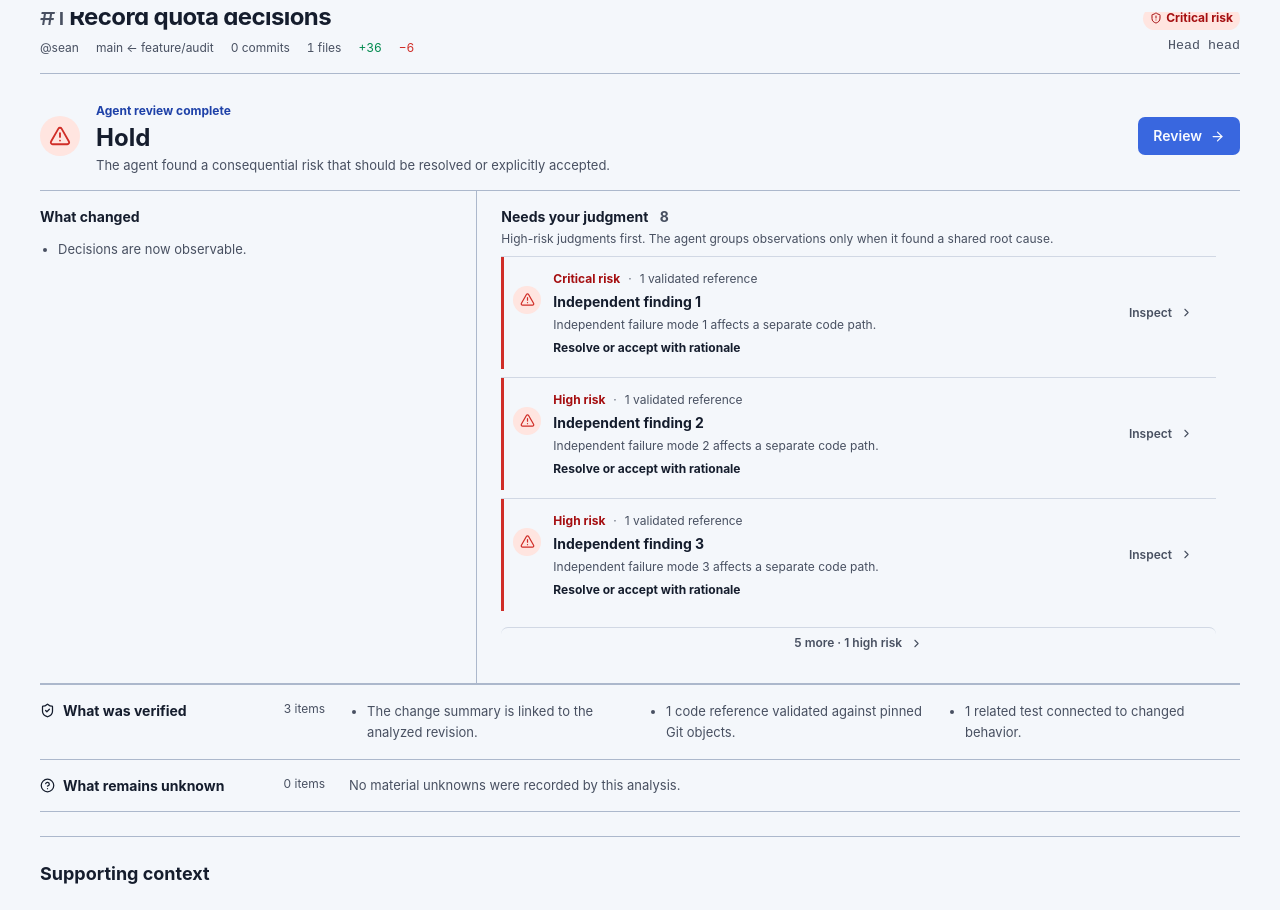
Test: Review brief and chapter reader › keeps consequential findings visible and progressively reveals a long judgment list
The image size is (1280, 910).
(page scrolled)
Expected: the heading "Needs your judgment 8" is shown, [501,208,669,225]
Expected: the text "Independent finding 1" is shown, [553,293,701,310]
Click the button with aria-label "Show 5 more · 1 high risk": (859, 643) [501,627,1216,659]
(page scrolled)
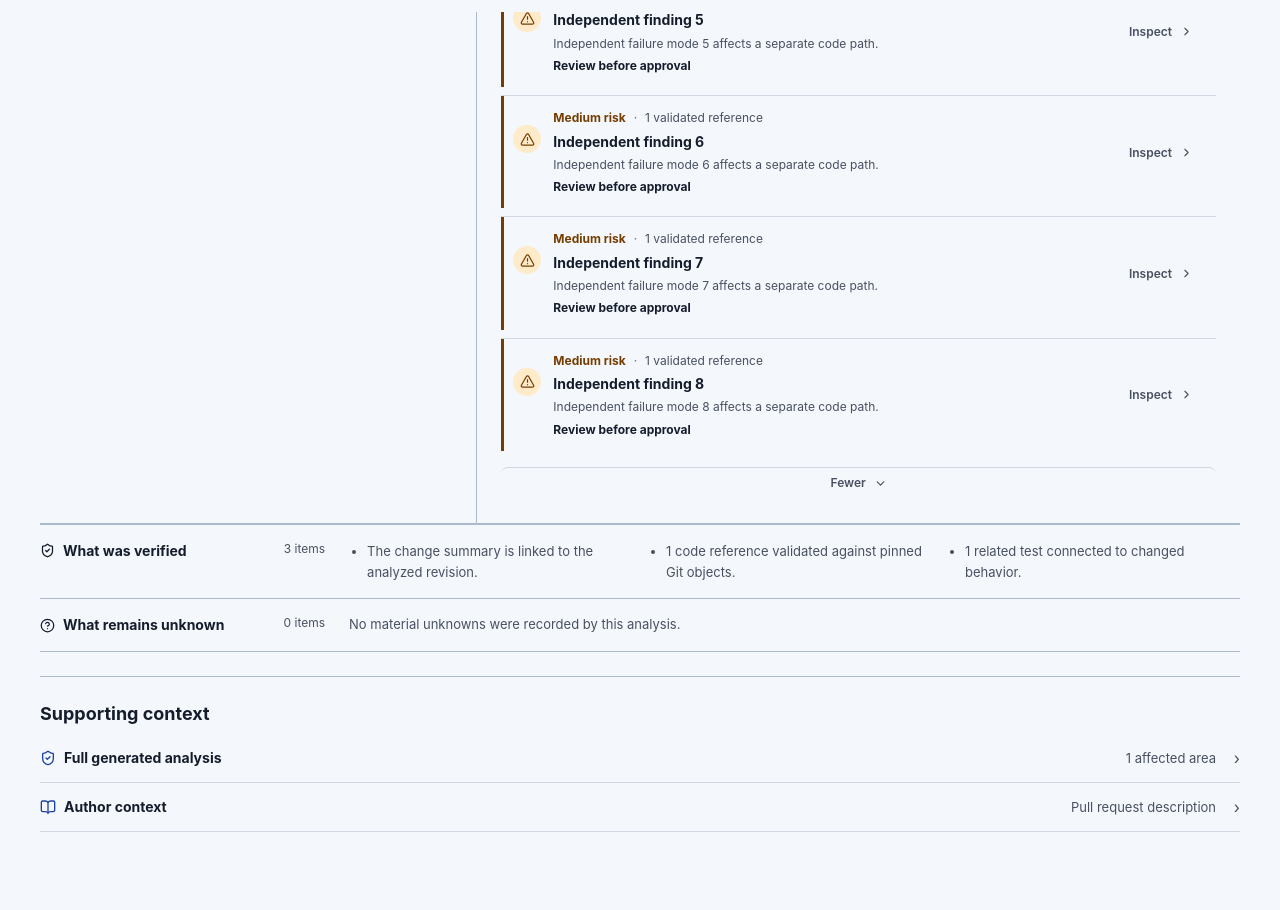
Expected: the text "Independent finding 8" is shown, [553,375,704,392]
Expected: the button with aria-label "Show fewer judgments" is expanded, [501,467,1216,499]
